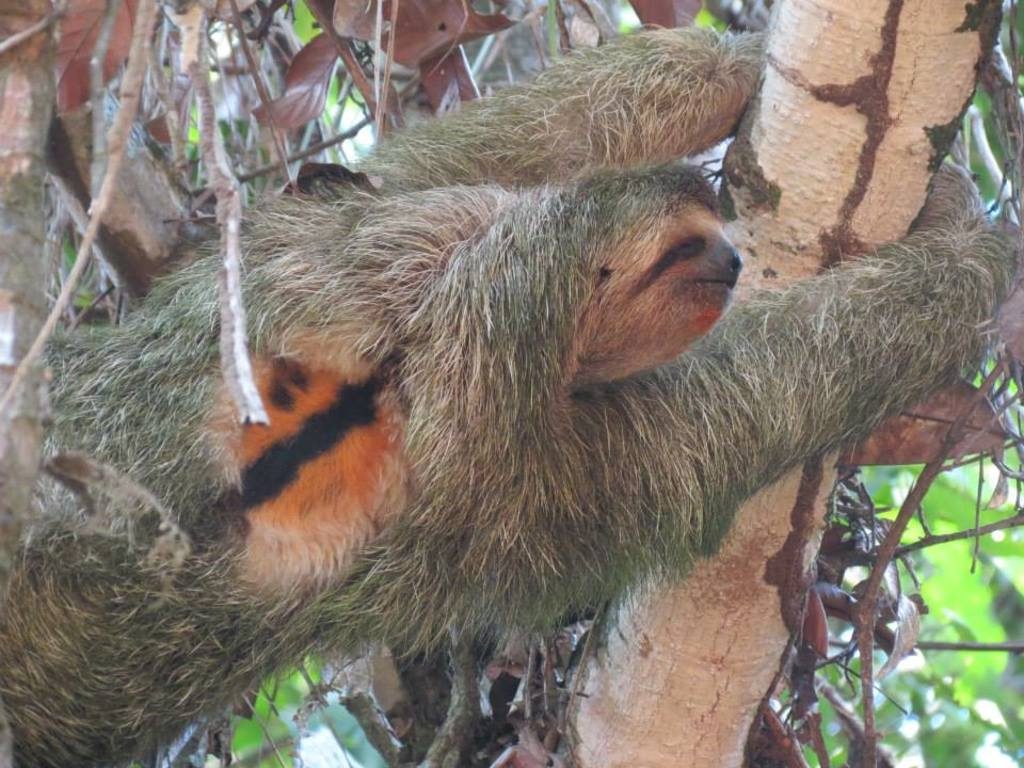Animal: (0, 24, 1022, 764)
